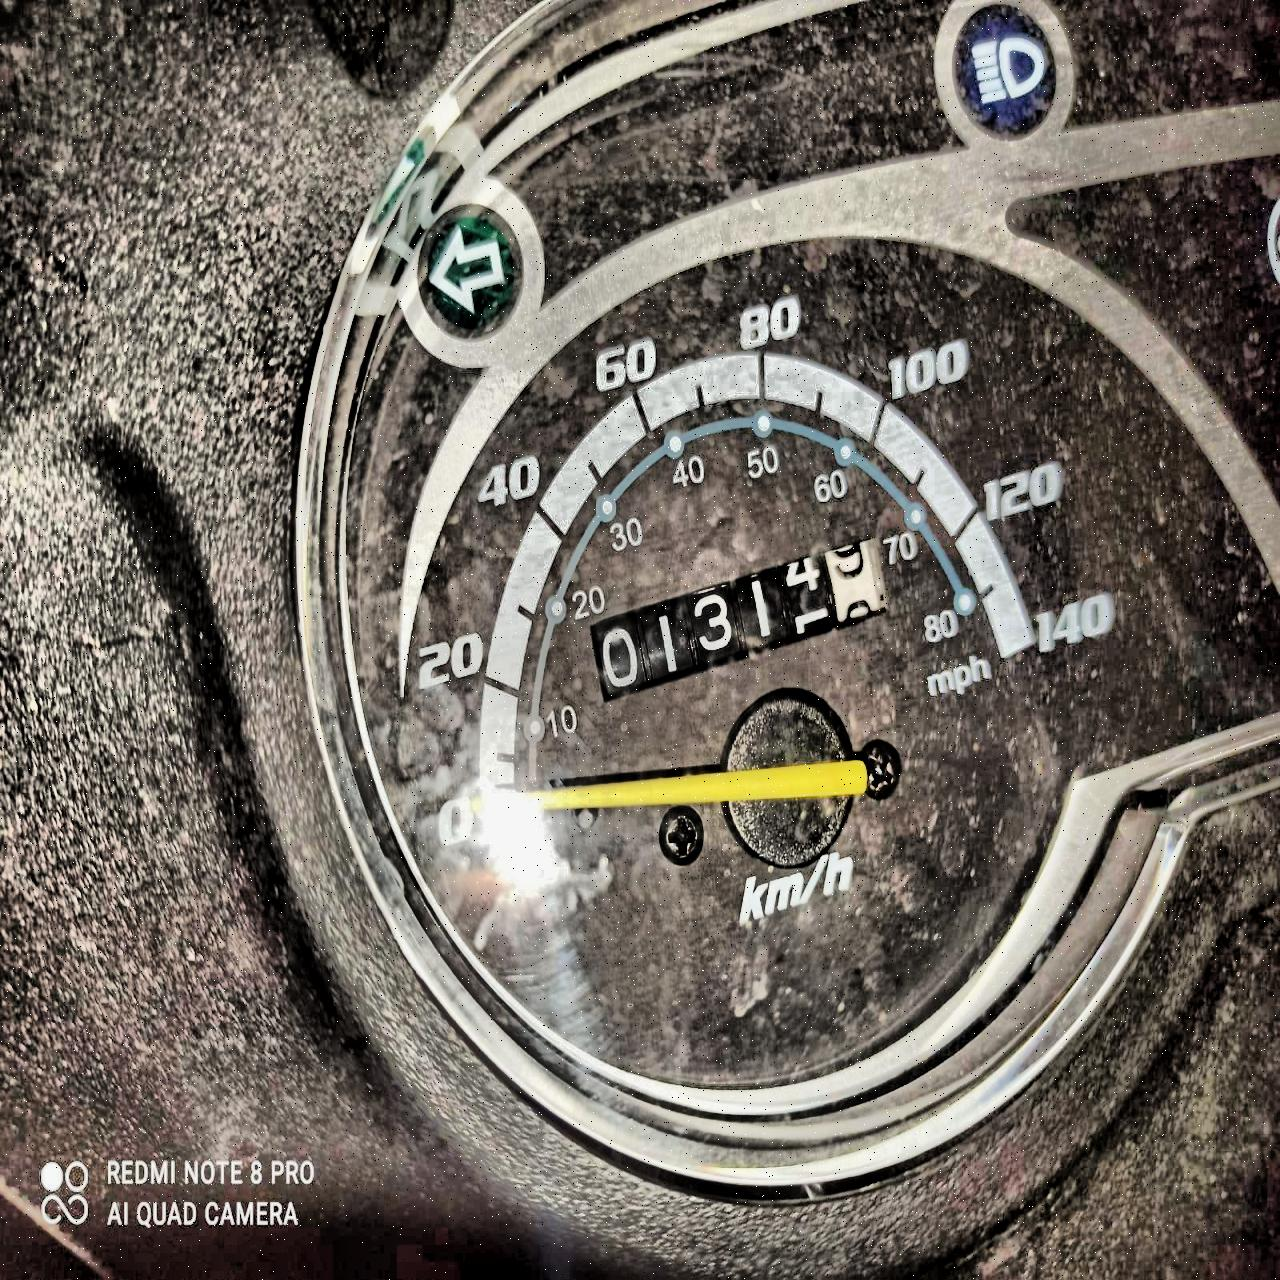0: (598, 626, 641, 692), (625, 515, 645, 549), (586, 583, 606, 612)
1: (652, 611, 682, 675), (748, 574, 775, 642)
3: (693, 590, 734, 655), (607, 523, 626, 549)
4: (783, 551, 825, 599)
7: (881, 535, 899, 567)
9: (831, 537, 870, 583)
odometer: (585, 533, 894, 708)
